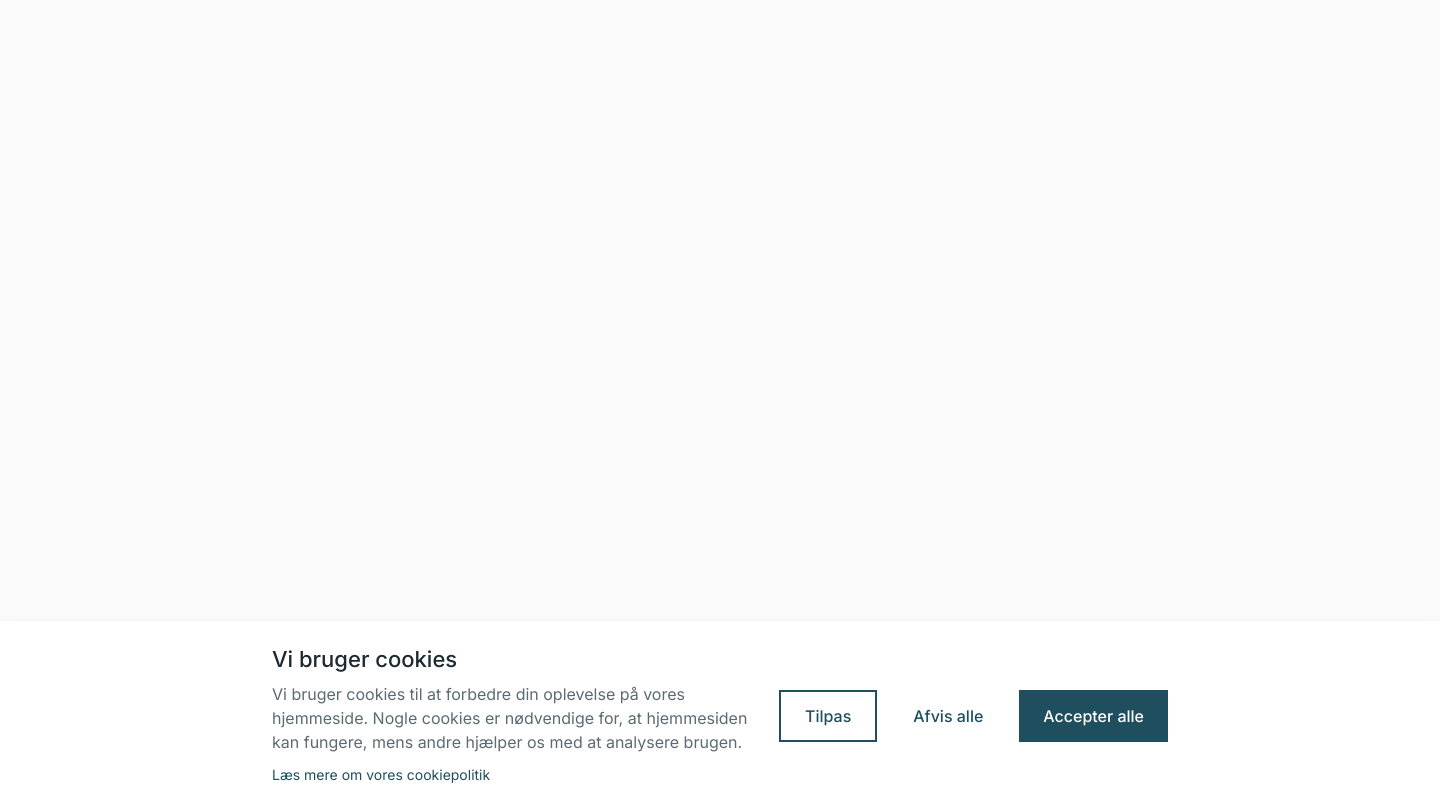
Test: CookieBanner › opens settings modal when customize is clicked
Click the button "Tilpas": (828, 716) [779,690,877,742]
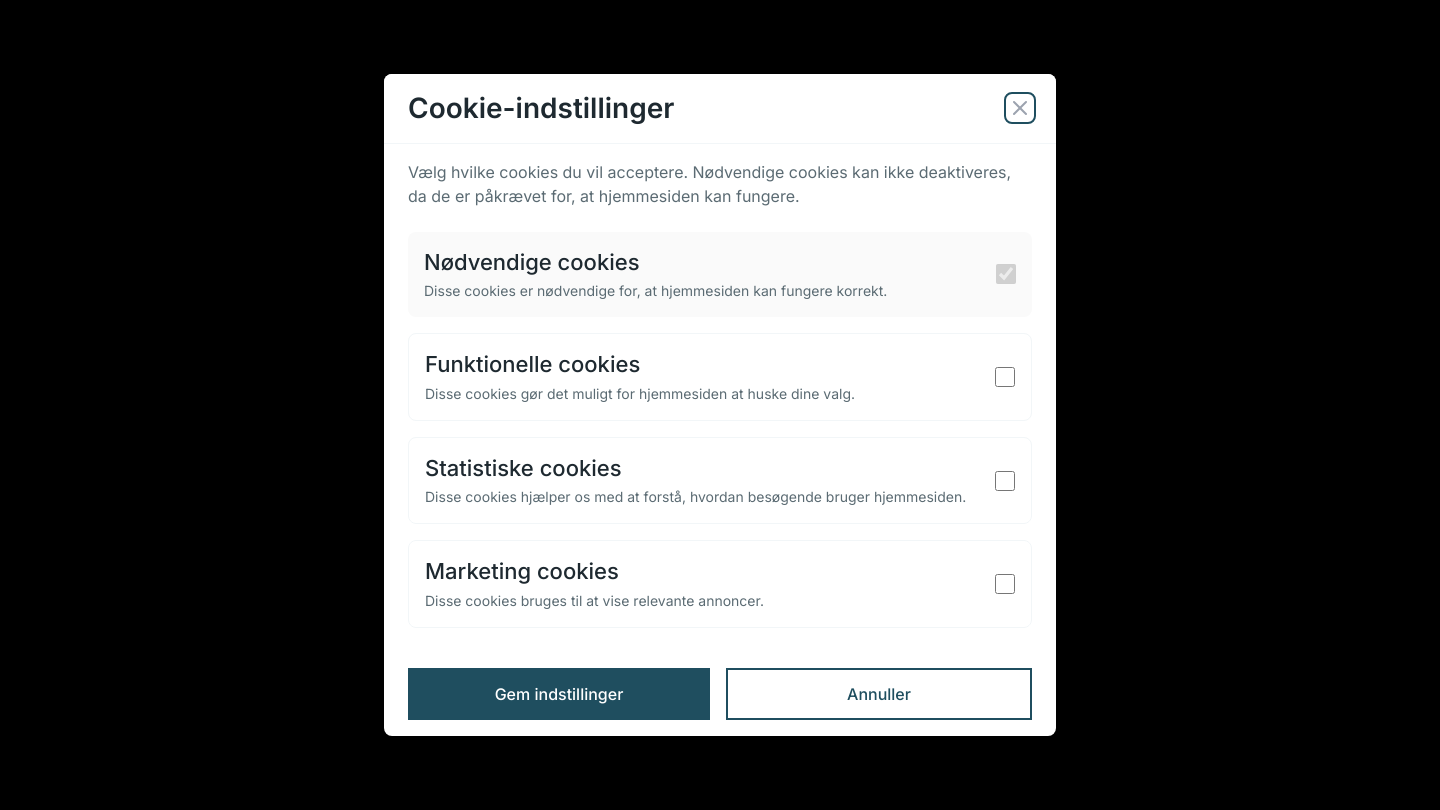
Check: the heading "Cookie-indstillinger" is shown, box [408,90,674,126]
